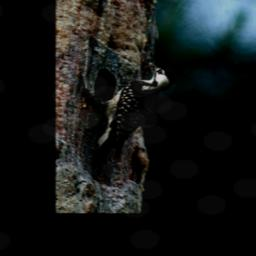Woodpecker: (93, 60, 177, 175)
